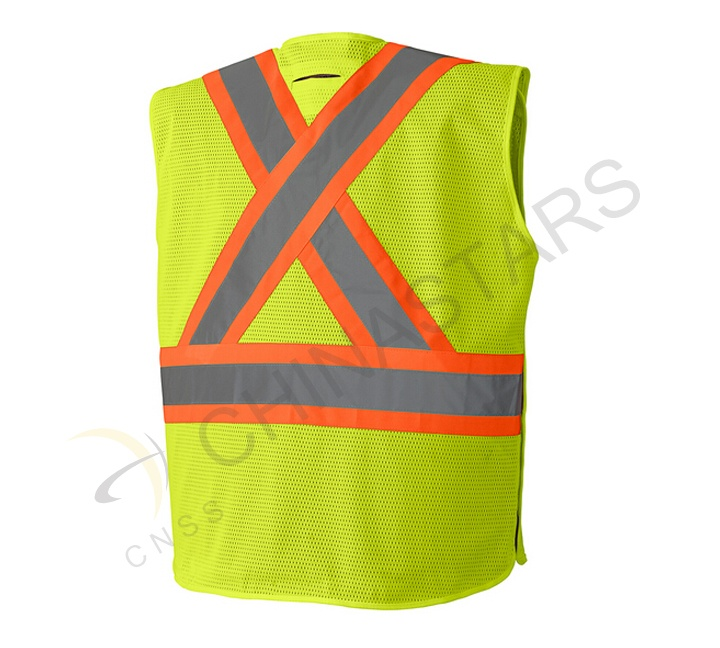safety vest: (143, 34, 535, 606)
